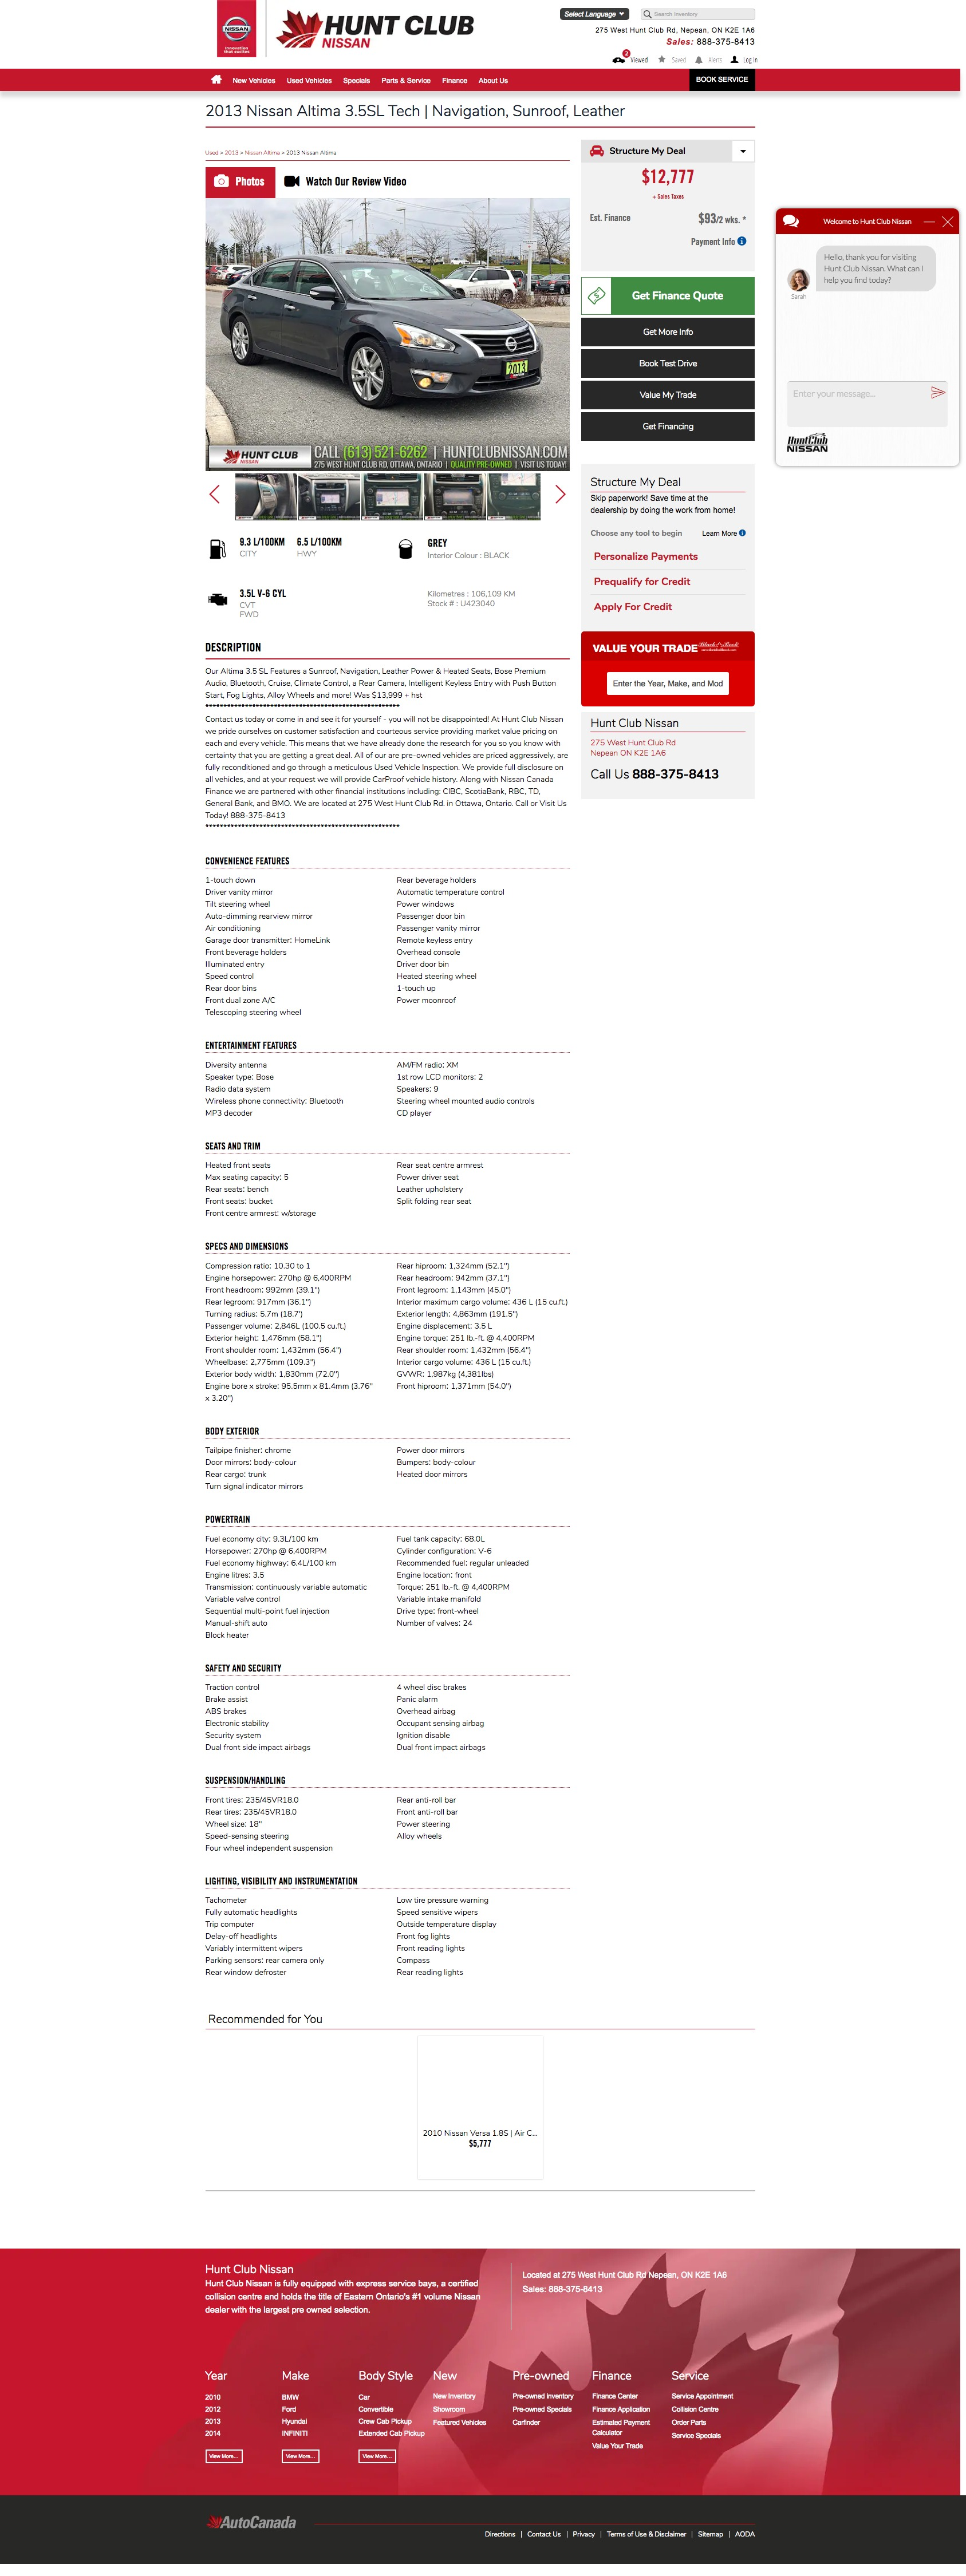car: (555, 485, 567, 506)
